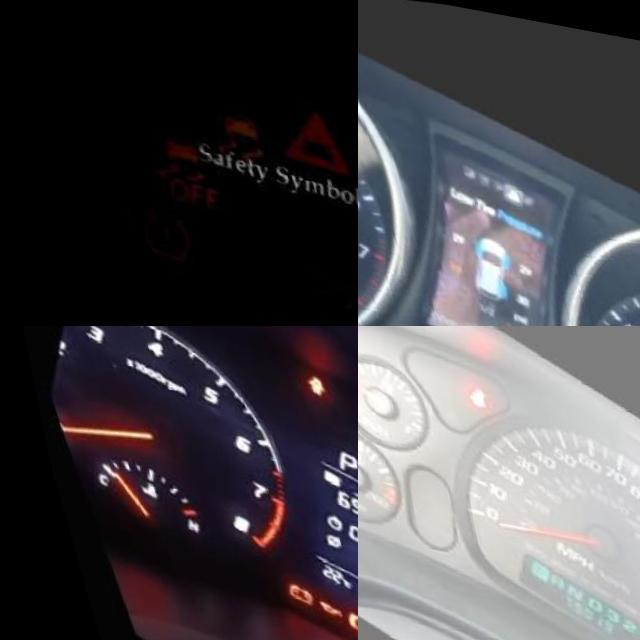Engine cooling system: (116, 469, 146, 498)
